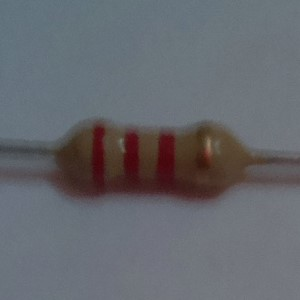gold_band: (194, 123, 215, 190)
red_band: (155, 129, 178, 184), (120, 129, 141, 184), (90, 124, 106, 192)
